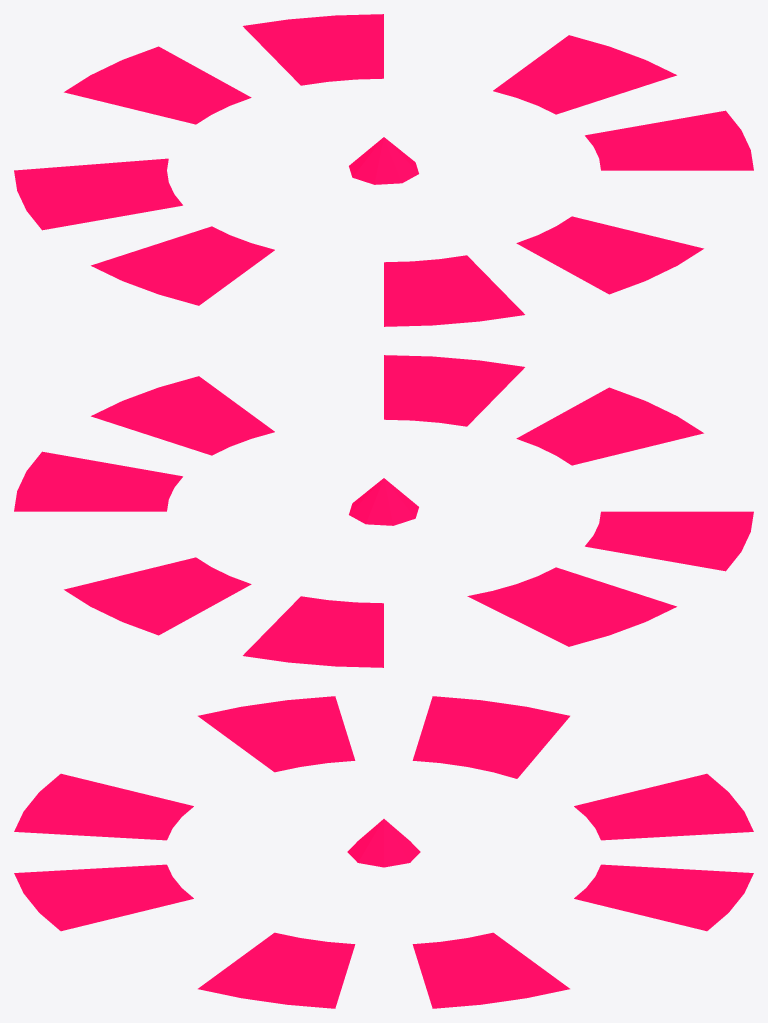
Rendered from reticle.glb.
The picture shows the model from 3 angles, top to bottom: view 1: azimuth 30°, elevation 25°; view 2: azimuth 150°, elevation 25°; view 3: azimuth 270°, elevation 25°; orthographic projection.
Visible parts, largest first — view 1: Torus; view 2: Torus; view 3: Torus.
Boxes of the visible parts, x1,y1,x2,y2 form: Torus: [14, 14, 753, 326]; Torus: [14, 355, 753, 667]; Torus: [14, 696, 753, 1008].
Size of the model in its own units: 0.2797 by 0.0141 by 0.2797.
